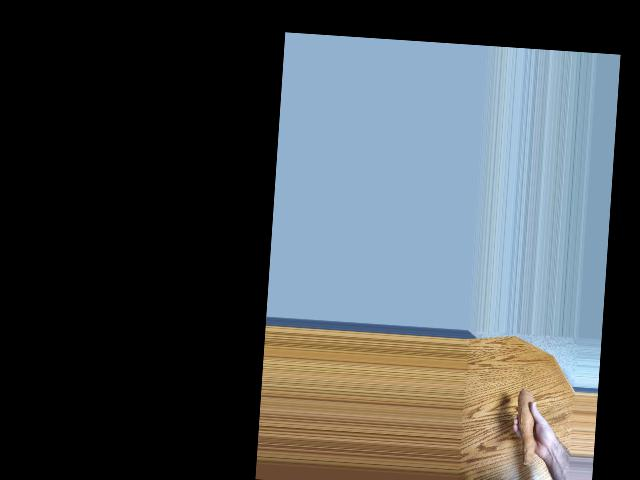sweet_potato: (511, 386, 540, 469)
